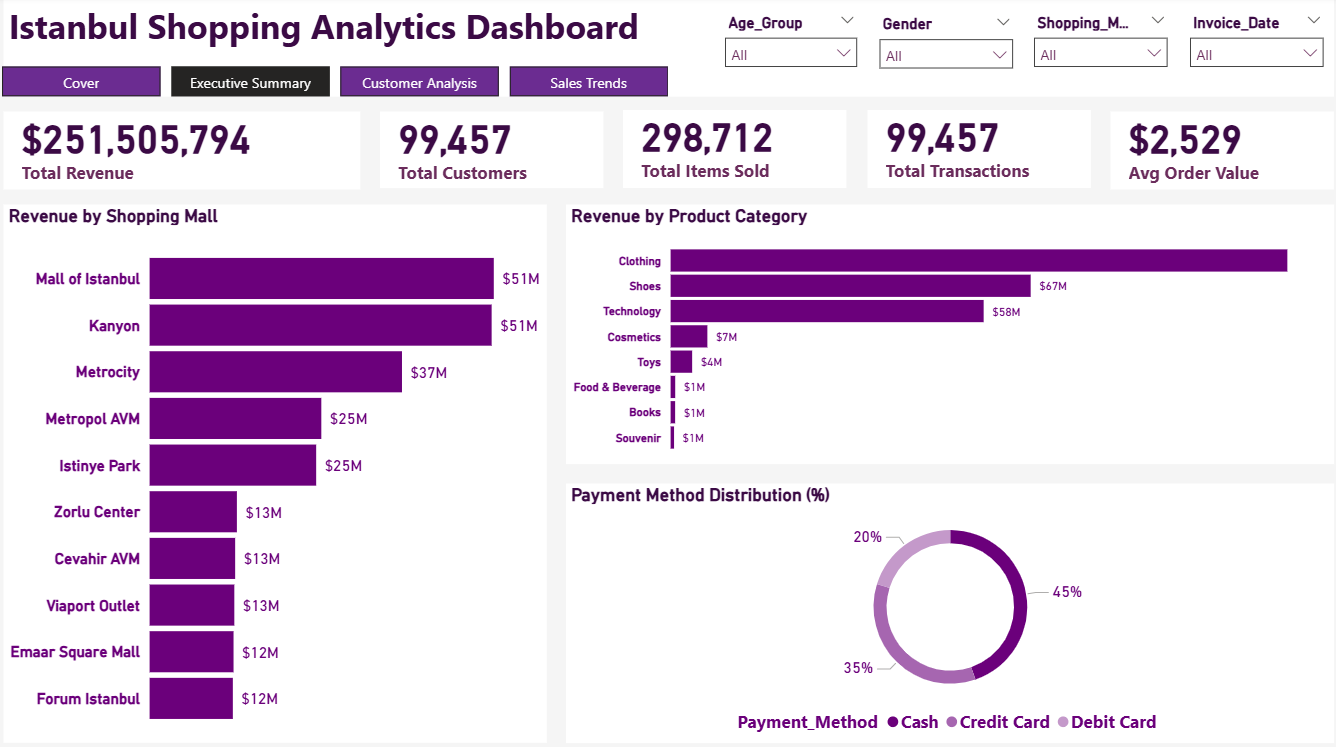

The page's visual inventory and layout, read from the dashboard file:
{"tool":"powerbi","page":{"name":"Executive Summary","canvas":[1280,720],"ordinal":1},"visuals":[{"type":"textbox","box":[9.6,0,1251.8,67],"z":0},{"type":"multiRowCard","fields":{"Values":["final_shopping.Total Revenue"]},"box":[22.3,78.1,336.5,87.7],"z":1000},{"type":"multiRowCard","fields":{"Values":["final_shopping.Total Customers"]},"box":[378.5,78.7,210,87.8],"z":2000},{"type":"multiRowCard","fields":{"Values":["final_shopping.Total Items Sold"]},"box":[604.3,75.1,210,87],"z":3000},{"type":"multiRowCard","fields":{"Values":["final_shopping.Total Transactions"]},"box":[830,78.3,210,87.9],"z":4000},{"type":"multiRowCard","fields":{"Values":["final_shopping.Avg Order Value"]},"box":[1055.7,75,210,87.7],"z":5000},{"type":"clusteredBarChart","title":"Revenue by Product Category","fields":{"Y":["final_shopping.Total Revenue"],"Category":["final_shopping.Category"]},"box":[543.8,180.2,717.6,282.3],"z":6000},{"type":"clusteredBarChart","title":"Revenue by Shopping Mall","fields":{"Y":["final_shopping.Total Revenue"],"Category":["final_shopping.Shopping_Mall"]},"box":[22.3,180.2,500.7,539],"z":7000},{"type":"donutChart","title":"Payment Method Distribution (%)","fields":{"Y":["final_shopping.Total Transactions"],"Category":["final_shopping.Payment_Method"]},"box":[543.6,481.5,717.7,237.7],"z":8000},{"type":"slicer","fields":{"Values":["final_shopping.Age_Group"]},"box":[639.5,0,145,67],"z":9000},{"type":"slicer","fields":{"Values":["final_shopping.Gender"]},"box":[798.6,1.3,145,67],"z":10000},{"type":"slicer","fields":{"Values":["final_shopping.Shopping_Mall"]},"box":[958.3,1.7,145,67],"z":11000},{"type":"slicer","fields":{"Values":["final_shopping.Invoice_Date"]},"box":[1117.9,4.5,145,67],"z":12000}]}

Visuals, with their boxes in screenshot pixels (x1, y1, x2, y2), scaled from the page's 1280x720 canvas onto the 1336x747 screenshot:
textbox: (x1=10, y1=0, x2=1317, y2=70)
multiRowCard - final_shopping.Total Revenue: (x1=23, y1=81, x2=374, y2=172)
multiRowCard - final_shopping.Total Customers: (x1=395, y1=82, x2=614, y2=173)
multiRowCard - final_shopping.Total Items Sold: (x1=631, y1=78, x2=850, y2=168)
multiRowCard - final_shopping.Total Transactions: (x1=866, y1=81, x2=1086, y2=172)
multiRowCard - final_shopping.Avg Order Value: (x1=1102, y1=78, x2=1321, y2=169)
"Revenue by Product Category" clusteredBarChart: (x1=568, y1=187, x2=1317, y2=480)
"Revenue by Shopping Mall" clusteredBarChart: (x1=23, y1=187, x2=546, y2=746)
"Payment Method Distribution (%)" donutChart: (x1=567, y1=500, x2=1316, y2=746)
slicer - final_shopping.Age_Group: (x1=667, y1=0, x2=819, y2=70)
slicer - final_shopping.Gender: (x1=834, y1=1, x2=985, y2=71)
slicer - final_shopping.Shopping_Mall: (x1=1000, y1=2, x2=1152, y2=71)
slicer - final_shopping.Invoice_Date: (x1=1167, y1=5, x2=1318, y2=74)
